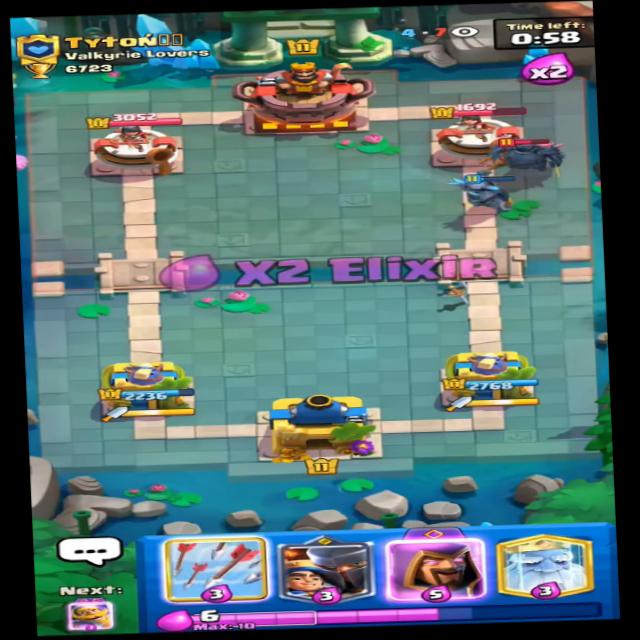pekka: (479, 125, 567, 179)
